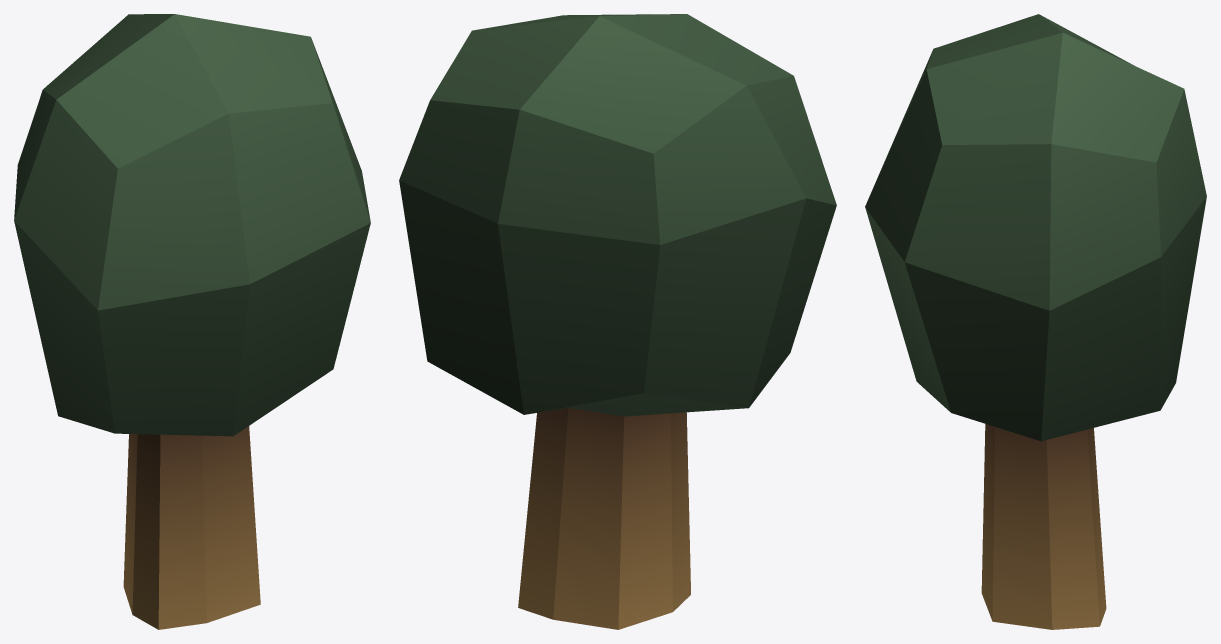
Rendered from BigTree.fbx.
3 renders of one model, left to right at view 1: azimuth 30°, elevation 25°; view 2: azimuth 150°, elevation 25°; view 3: azimuth 270°, elevation 25°, orthographic. The views are drawn at different scales.
Parts seen in each view (by area): view 1: Cube.013; view 2: Cube.013; view 3: Cube.013.
Boxes of the visible parts, x1,y1,x2,y2 form: Cube.013: (14,14,370,629); Cube.013: (399,14,836,629); Cube.013: (865,14,1206,629).
Bounding box in the file's own units: 66.71 × 102 × 55.81.
